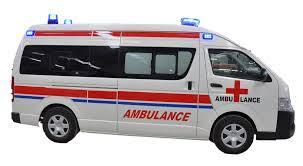Emergency-Vehicles: (7, 6, 301, 157)
